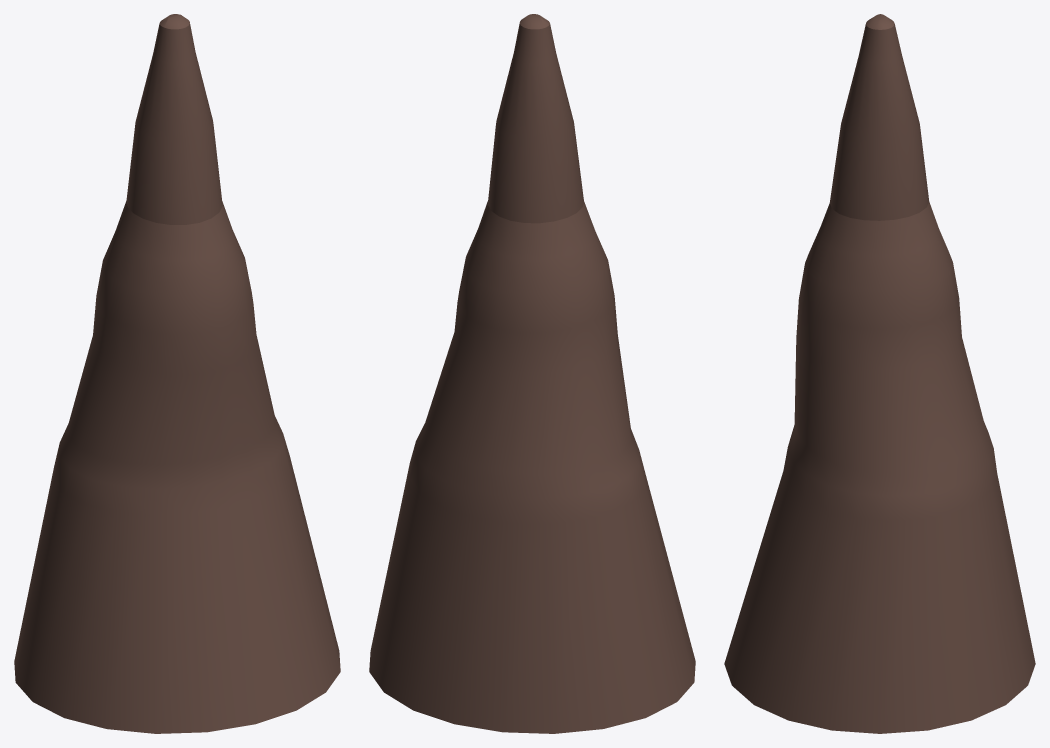
The model's file is Stalagmite.fbx.
3 renders of one model, left to right at view 1: azimuth 30°, elevation 25°; view 2: azimuth 150°, elevation 25°; view 3: azimuth 270°, elevation 25°, orthographic.
Visible parts, largest first — view 1: Stalagmite; view 2: Stalagmite; view 3: Stalagmite.
Boxes of the visible parts, bbox=[...] form: Stalagmite: bbox=[14, 14, 340, 733]; Stalagmite: bbox=[369, 14, 695, 733]; Stalagmite: bbox=[724, 14, 1035, 733].
Bounding box in the file's own units: 1.68 × 1.58 × 3.61.
